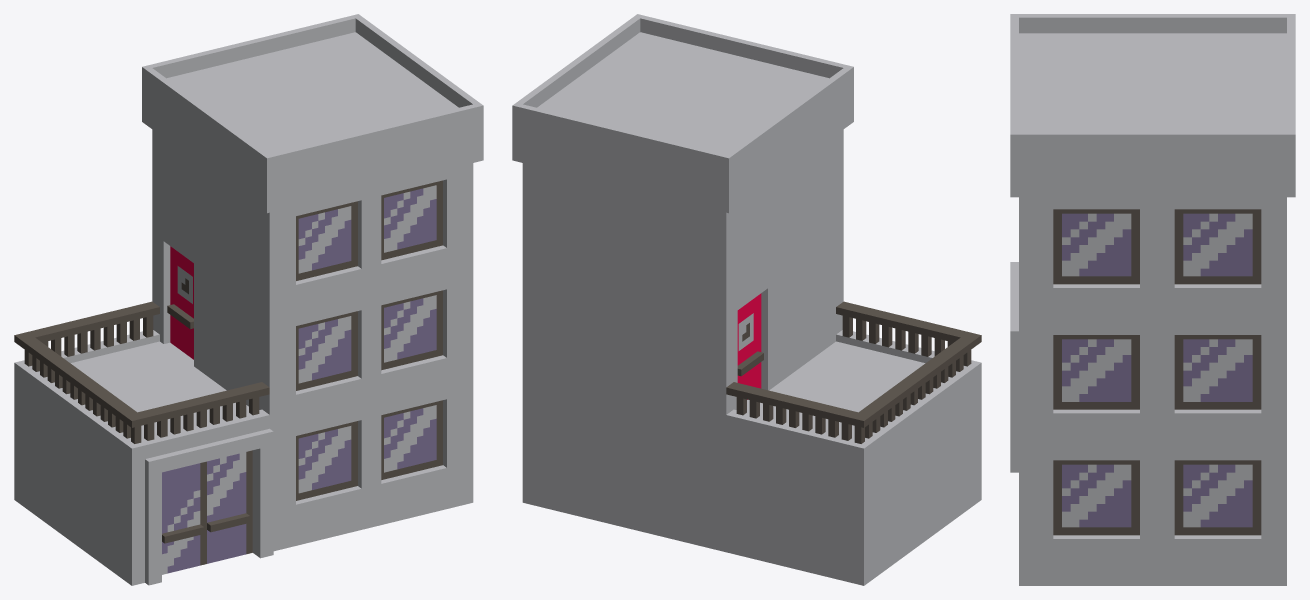
The model's file is office_a.obj.
3 views of the same model, side by side, from view 1: azimuth 30°, elevation 25°; view 2: azimuth 150°, elevation 25°; view 3: azimuth 270°, elevation 25° (orthographic). The views are drawn at different scales.
Size of the model in its own units: 5.3 by 5.8 by 3.3.
Materials: 1 (1 with a texture image).
